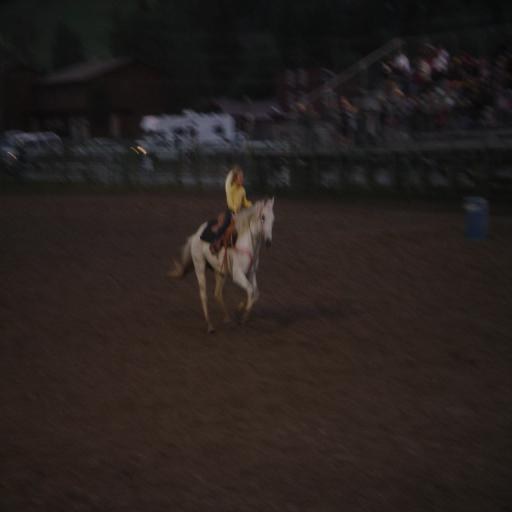Horse: (167, 194, 277, 334)
